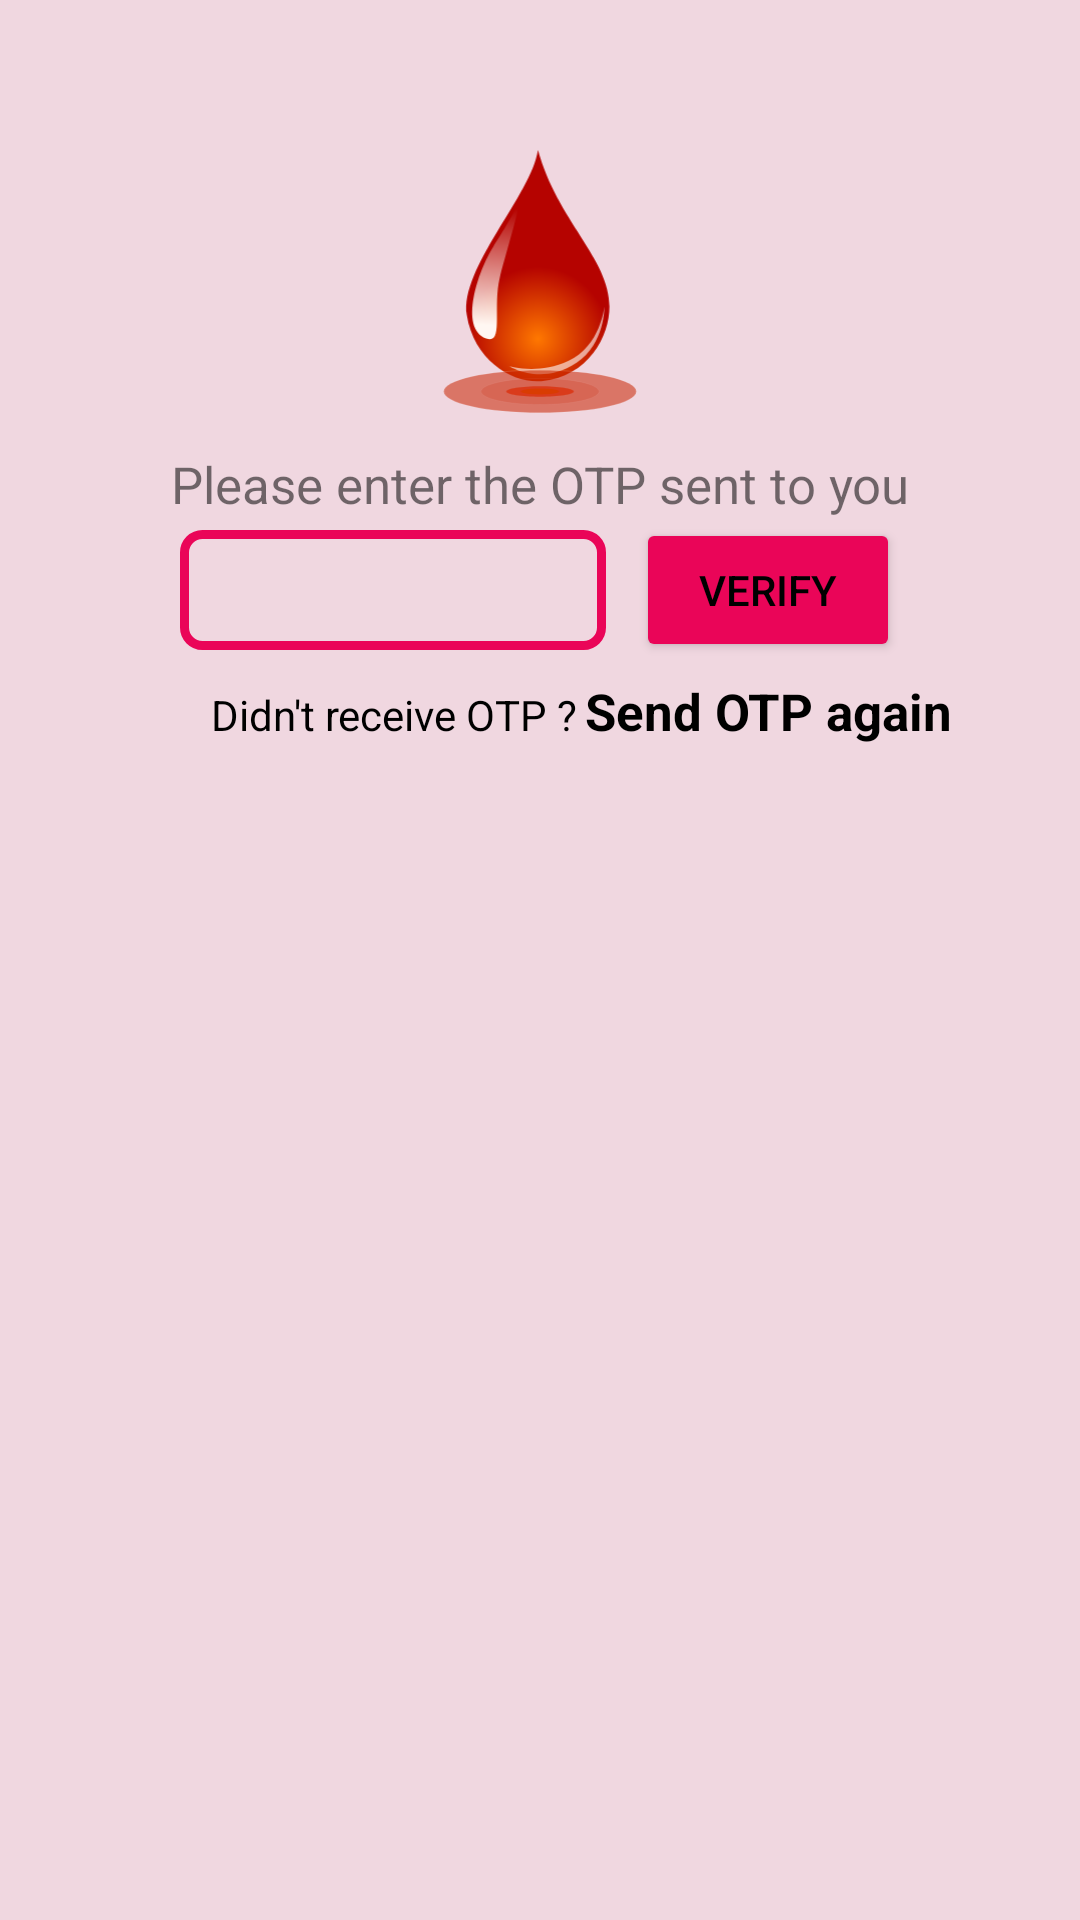

Icon bounding boxes for this 1080*1920 phone screenshot, format (x1, y1, x2, y2):
blood: (443, 150, 637, 413)
